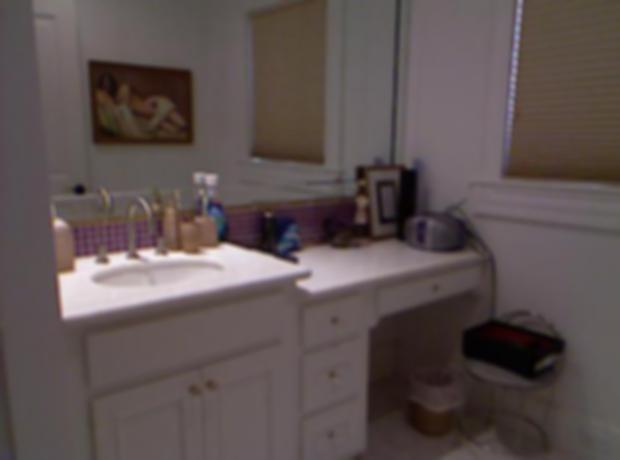Lavamanos: (80, 189, 230, 301)
